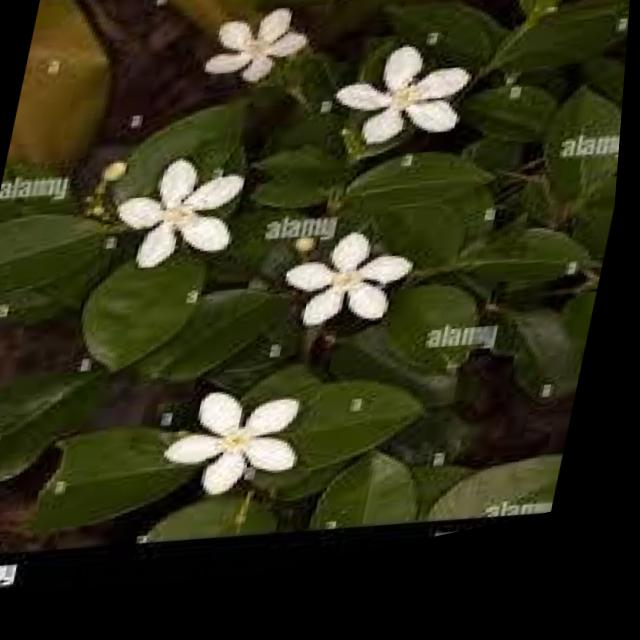Flower: (146, 374, 328, 529), (316, 42, 491, 187), (103, 139, 264, 296), (277, 228, 435, 371), (204, 7, 315, 105)
